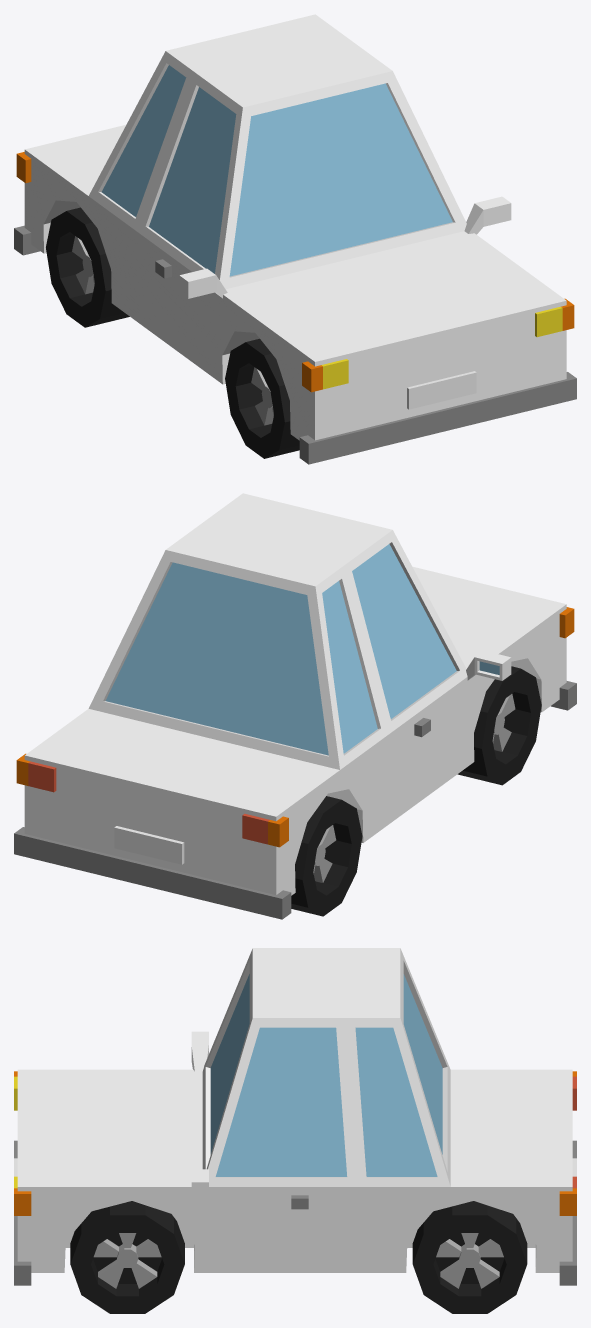
File: car-lowpoly-1.fbx
3 renders of one model, top to bottom at view 1: azimuth 30°, elevation 25°; view 2: azimuth 150°, elevation 25°; view 3: azimuth 270°, elevation 25°, orthographic. The views are drawn at different scales.
Visible parts, largest first — view 1: car-lowpoly-1; view 2: car-lowpoly-1; view 3: car-lowpoly-1.
Boxes of the visible parts, x1,y1,x2,y2 form: car-lowpoly-1: (14, 14, 576, 464); car-lowpoly-1: (14, 493, 576, 919); car-lowpoly-1: (14, 948, 576, 1313).
Bounding box in the file's own units: 257 × 216 × 406.
